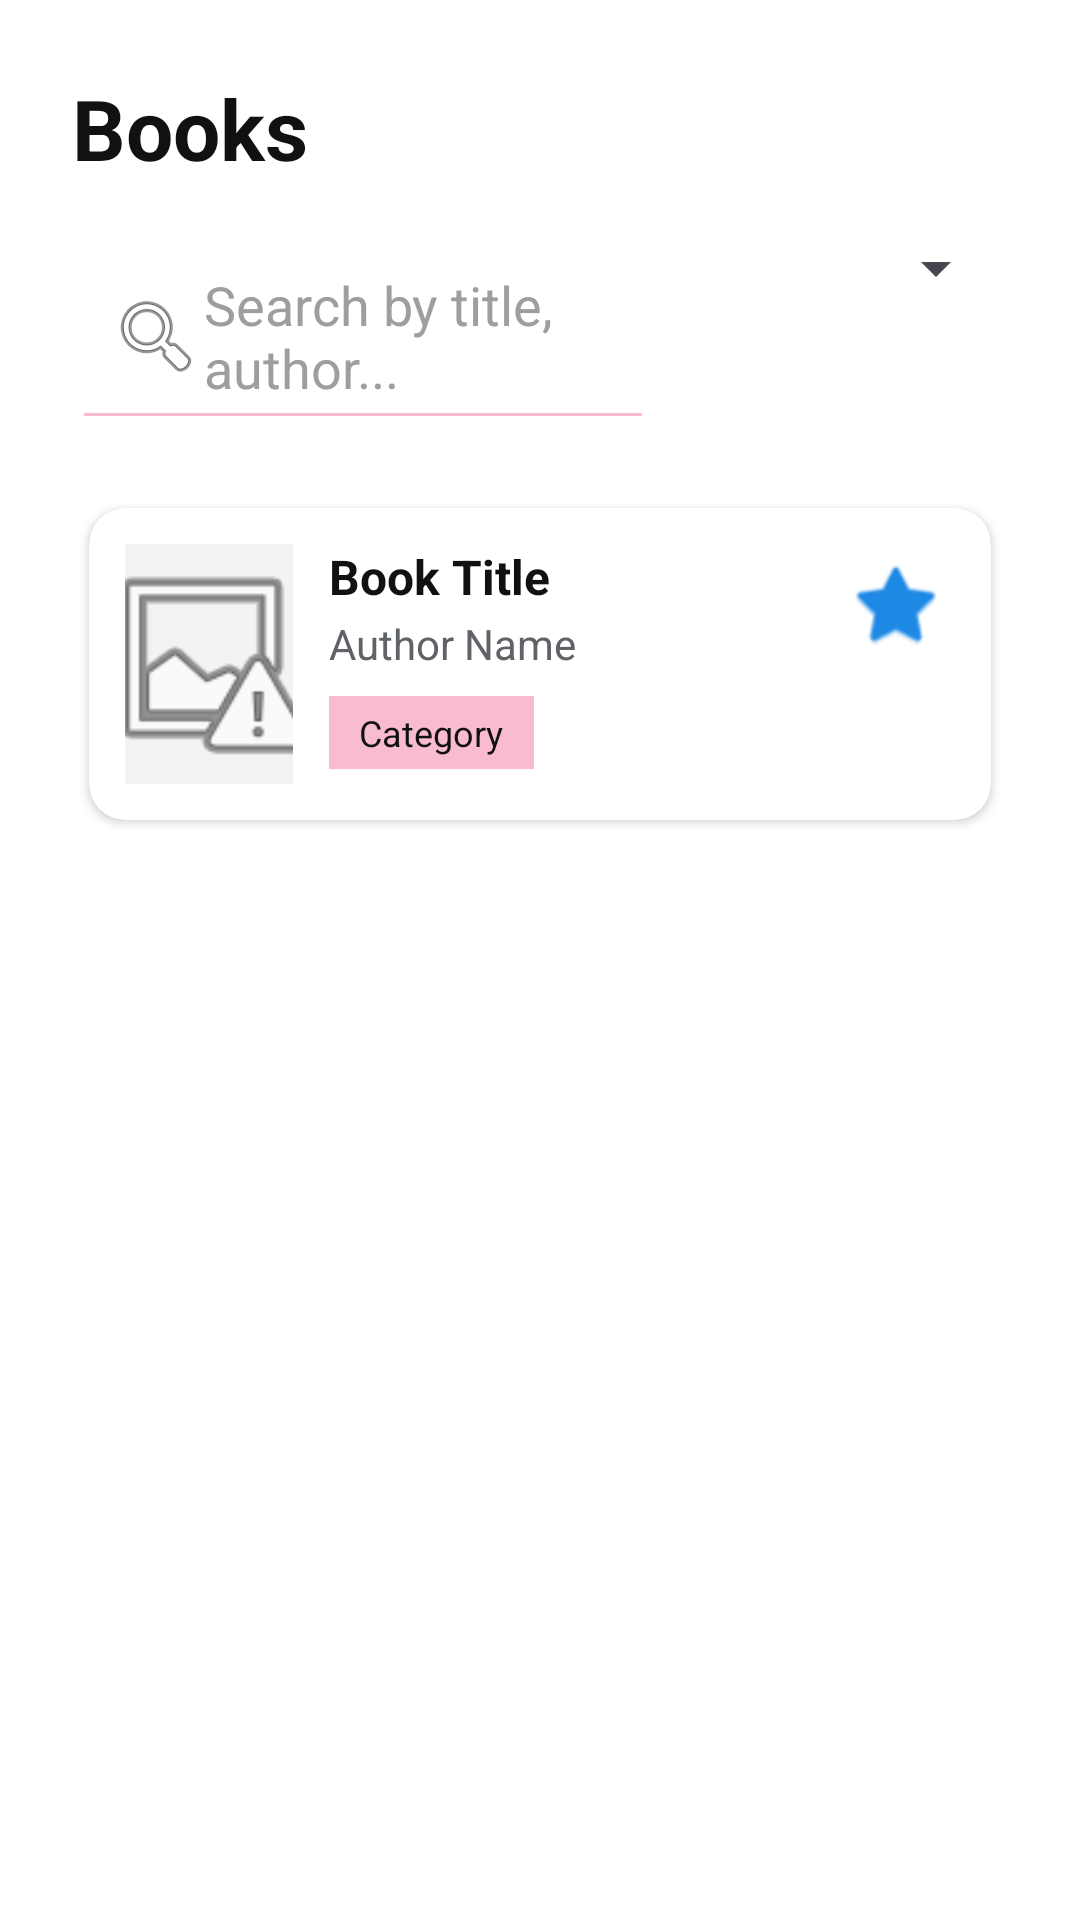

Where icons sit on this 1080 x 1920 app screen, as bbox=(x1, y1, x2, y2):
Bookmark: bbox=(856, 566, 936, 644)
